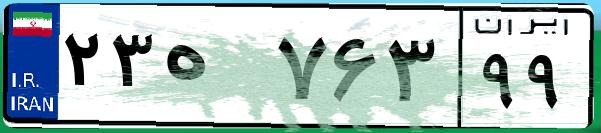2: (57, 26, 110, 100)
3: (385, 28, 445, 110), (110, 28, 158, 98)
6: (330, 28, 385, 110)
7: (270, 28, 330, 110)
9: (475, 38, 525, 113), (525, 38, 570, 115)
ه: (158, 20, 270, 120)
